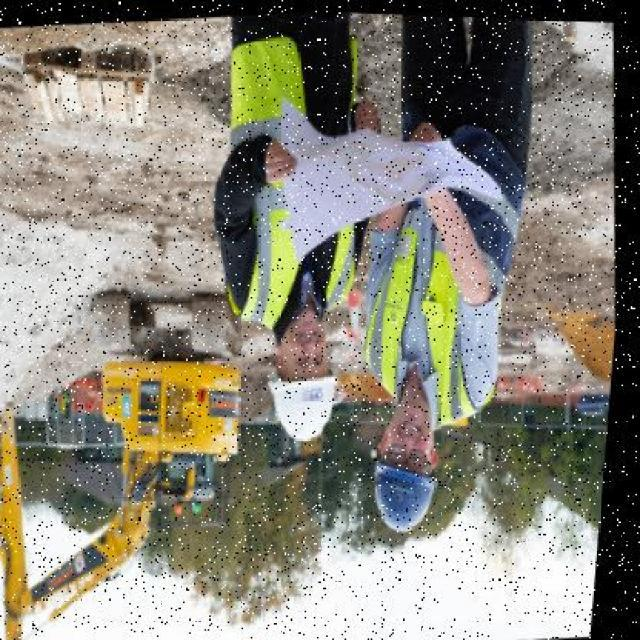helmet: (263, 351, 352, 445), (368, 445, 456, 533)
vest: (200, 31, 372, 326), (359, 186, 483, 423)
